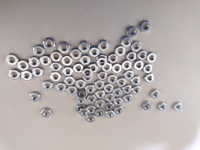nut: (5, 54, 18, 66), (9, 69, 21, 81), (70, 48, 82, 60), (98, 40, 110, 52), (39, 55, 51, 66), (121, 36, 132, 48), (44, 38, 55, 50), (62, 66, 74, 77), (79, 55, 91, 66), (32, 68, 45, 78), (127, 26, 137, 39), (18, 60, 29, 71), (29, 57, 40, 68), (140, 21, 151, 32), (59, 42, 70, 53), (79, 41, 90, 52), (131, 41, 142, 52), (137, 49, 148, 60), (131, 75, 142, 86), (29, 92, 41, 102), (21, 71, 33, 81), (42, 81, 54, 91), (33, 46, 45, 56), (50, 62, 62, 72), (50, 72, 62, 82), (96, 58, 108, 68), (90, 46, 100, 58), (41, 108, 52, 118), (141, 101, 152, 111), (157, 102, 168, 112), (150, 90, 161, 100), (73, 64, 84, 74), (147, 52, 157, 63), (124, 70, 135, 80), (62, 56, 73, 66), (51, 51, 61, 62), (64, 76, 75, 86), (88, 64, 99, 74), (82, 73, 93, 83), (115, 46, 126, 56), (112, 63, 123, 73), (123, 60, 133, 71), (132, 85, 143, 95), (173, 102, 183, 112), (56, 83, 66, 93), (127, 52, 137, 62), (95, 80, 105, 90), (134, 61, 144, 71), (67, 86, 77, 96), (108, 74, 118, 84), (76, 79, 86, 89), (98, 71, 108, 81), (103, 62, 113, 72), (105, 93, 115, 103), (122, 94, 133, 103), (97, 55, 108, 64), (114, 106, 125, 115), (116, 78, 127, 87), (145, 74, 155, 83), (85, 85, 95, 94), (108, 54, 118, 63), (113, 88, 123, 97), (114, 97, 123, 107), (143, 65, 154, 73), (76, 97, 87, 105), (87, 95, 96, 104), (105, 84, 114, 93), (77, 90, 86, 99), (95, 109, 104, 118), (87, 106, 96, 115), (80, 108, 89, 117), (76, 105, 85, 114), (123, 85, 132, 94), (86, 115, 96, 123), (95, 100, 105, 108), (82, 70, 92, 78), (95, 91, 105, 99), (106, 111, 115, 119), (105, 103, 113, 111)
